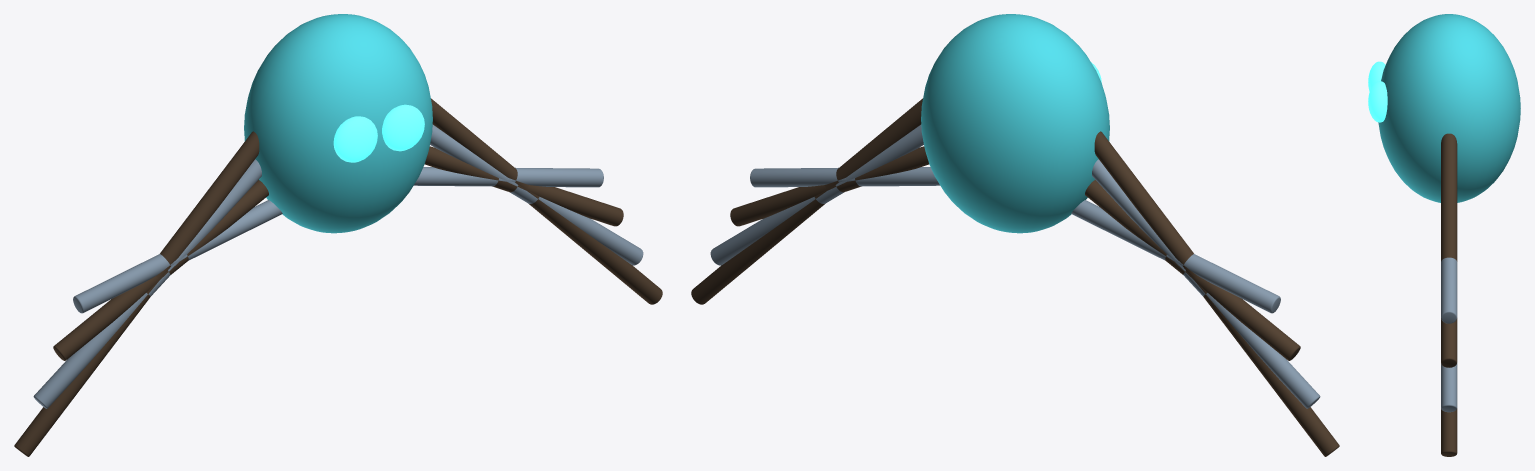
The model's file is arachnid_v8.glb.
3 views of the same model, side by side, from view 1: azimuth 30°, elevation 25°; view 2: azimuth 150°, elevation 25°; view 3: azimuth 270°, elevation 25° (orthographic). The views are drawn at different scales.
Visible parts, largest first — view 1: MITE_BODY_ACCENT, MITE_LEG_SECONDARY, MITE_LEG_SECONDARY.001, MITE_LEG_PRIMARY, MITE_LEG_SECONDARY.002, MITE_LEG_PRIMARY.002, MITE_LEG_PRIMARY.001, MITE_LEG_SECONDARY.003, MITE_LEG_PRIMARY.003, EYE_EMISSIVE, EYE_EMISSIVE.001; view 2: MITE_BODY_ACCENT, MITE_LEG_SECONDARY, MITE_LEG_SECONDARY.001, MITE_LEG_PRIMARY, MITE_LEG_SECONDARY.002, MITE_LEG_PRIMARY.002, MITE_LEG_PRIMARY.001, MITE_LEG_SECONDARY.003, MITE_LEG_PRIMARY.003; view 3: MITE_BODY_ACCENT, MITE_LEG_SECONDARY.001, MITE_LEG_PRIMARY.003, MITE_LEG_PRIMARY.001, MITE_LEG_SECONDARY.003, EYE_EMISSIVE.001, EYE_EMISSIVE.
Part boxes in pixels (<box>): MITE_BODY_ACCENT: <box>244,14,432,233</box>; MITE_LEG_SECONDARY: <box>14,131,259,456</box>; MITE_LEG_SECONDARY.001: <box>431,98,662,304</box>; MITE_LEG_PRIMARY: <box>33,159,261,408</box>; MITE_LEG_SECONDARY.002: <box>53,180,268,360</box>; MITE_LEG_PRIMARY.002: <box>73,200,282,313</box>; MITE_LEG_PRIMARY.001: <box>430,124,643,265</box>; MITE_LEG_SECONDARY.003: <box>425,146,623,226</box>; MITE_LEG_PRIMARY.003: <box>414,167,603,187</box>; EYE_EMISSIVE: <box>333,116,377,162</box>; EYE_EMISSIVE.001: <box>382,104,424,151</box>; MITE_BODY_ACCENT: <box>921,14,1109,233</box>; MITE_LEG_SECONDARY: <box>1094,131,1339,456</box>; MITE_LEG_SECONDARY.001: <box>691,98,922,304</box>; MITE_LEG_PRIMARY: <box>1092,159,1320,408</box>; MITE_LEG_SECONDARY.002: <box>1085,180,1300,360</box>; MITE_LEG_PRIMARY.002: <box>1071,200,1280,313</box>; MITE_LEG_PRIMARY.001: <box>710,124,923,265</box>; MITE_LEG_SECONDARY.003: <box>730,146,928,226</box>; MITE_LEG_PRIMARY.003: <box>750,167,939,187</box>; MITE_BODY_ACCENT: <box>1378,14,1520,202</box>; MITE_LEG_SECONDARY.001: <box>1441,133,1457,456</box>; MITE_LEG_PRIMARY.003: <box>1441,257,1457,323</box>; MITE_LEG_PRIMARY.001: <box>1441,363,1457,412</box>; MITE_LEG_SECONDARY.003: <box>1441,318,1457,367</box>; EYE_EMISSIVE.001: <box>1368,81,1387,122</box>; EYE_EMISSIVE: <box>1368,61,1385,91</box>.
Size of the model in its own units: 2.75 by 1.46 by 0.66.
